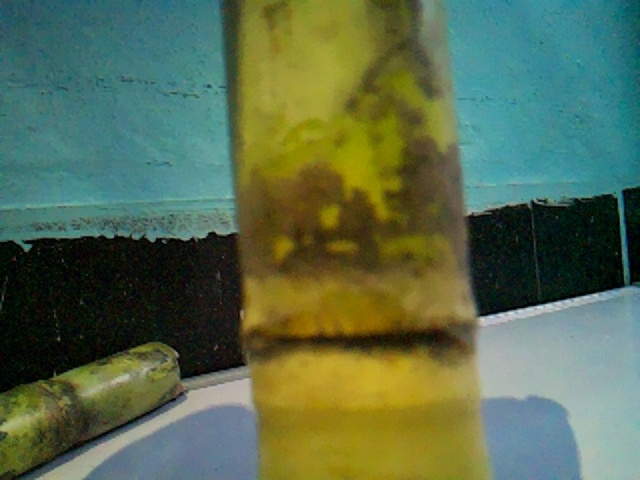Good Sugarcane: (223, 0, 500, 475)
Node: (239, 287, 476, 396)
